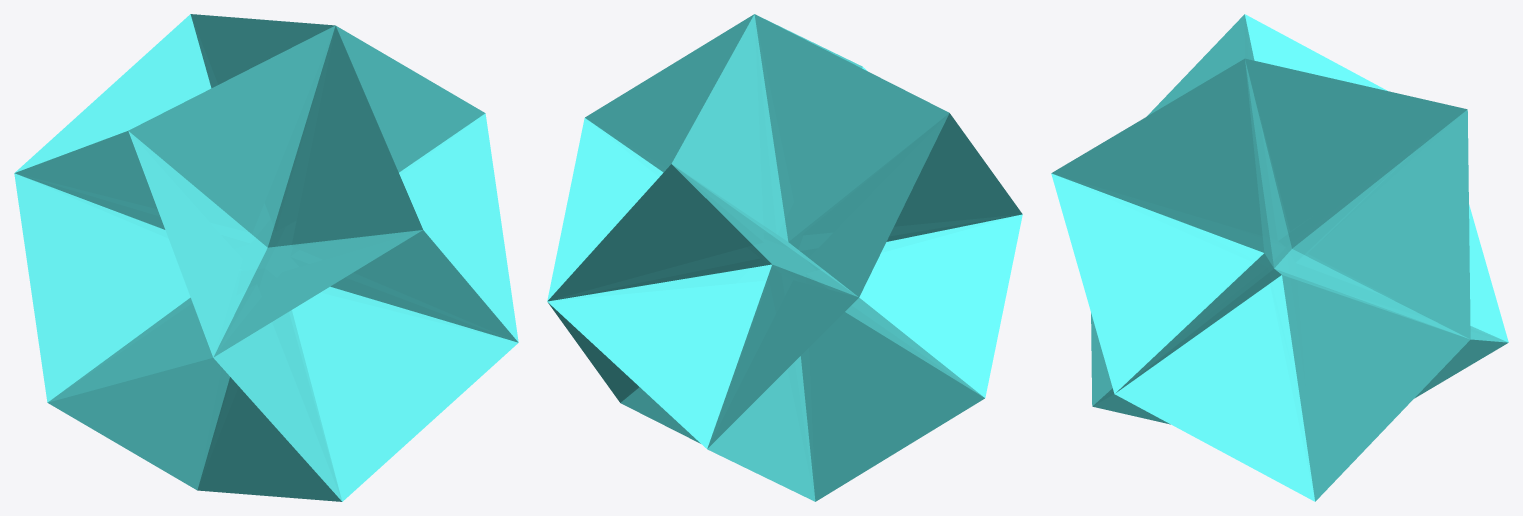
The model's file is Mobius48b.obj.
The picture shows the model from 3 angles, left to right: view 1: azimuth 30°, elevation 25°; view 2: azimuth 150°, elevation 25°; view 3: azimuth 270°, elevation 25°; orthographic projection. The views are drawn at different scales.
Size of the model in its own units: 2.02 by 2.09 by 1.94.
